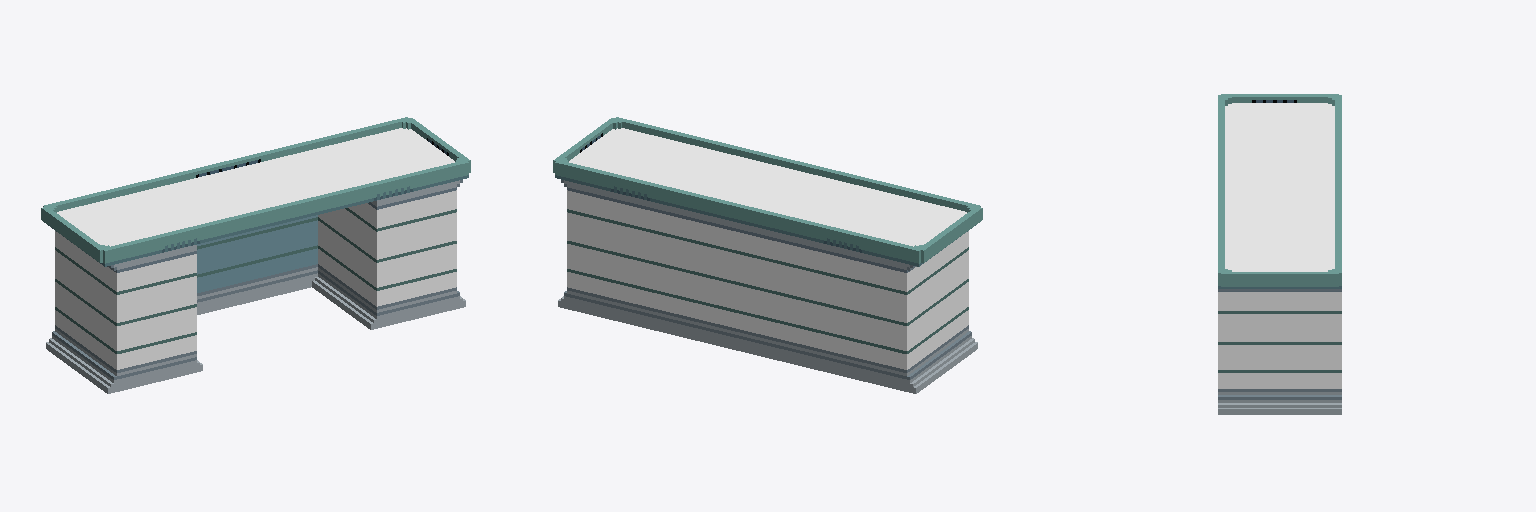
The picture shows the model from 3 angles: view 1: azimuth 30°, elevation 25°; view 2: azimuth 150°, elevation 25°; view 3: azimuth 270°, elevation 25°; orthographic projection.
Parts seen in each view (by area): view 1: TableLab; view 2: TableLab; view 3: TableLab.
Boxes of the visible parts, box(x1,y1,x2,y2) form: TableLab: box(41, 117, 470, 393); TableLab: box(553, 117, 982, 393); TableLab: box(1218, 94, 1341, 414).
Bounding box in the file's own units: 12.4 × 4.6 × 3.6.
Materials: 1 (1 with a texture image).